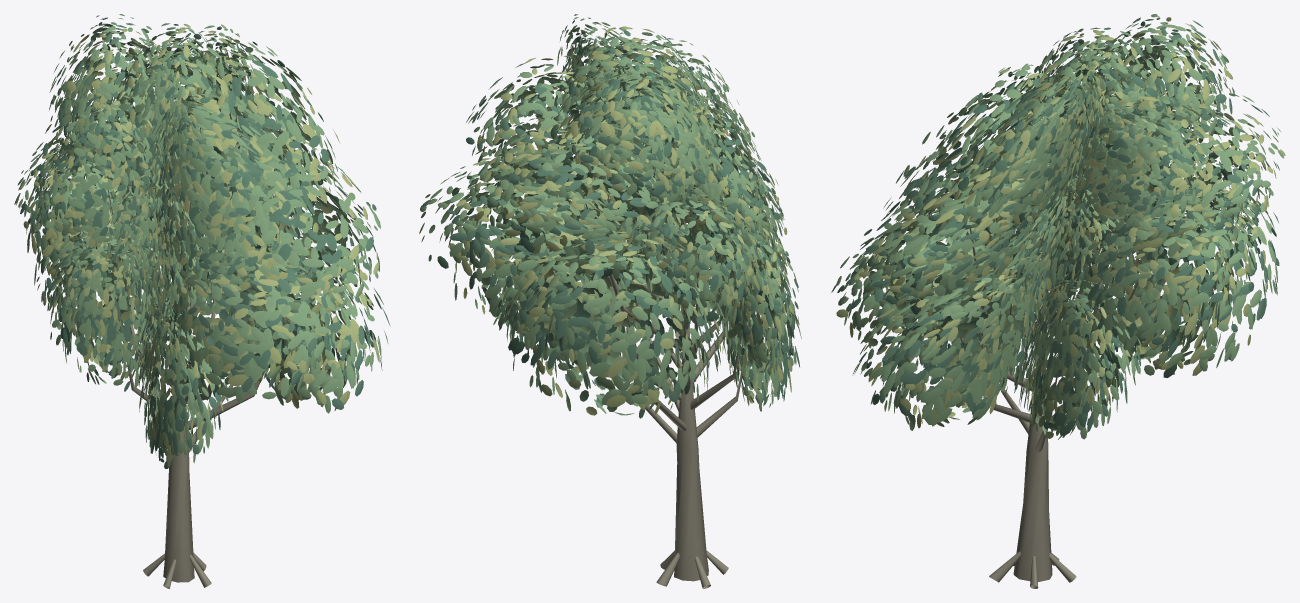
Rendered from grove_9.glb.
3 renders of one model, left to right at view 1: azimuth 30°, elevation 25°; view 2: azimuth 150°, elevation 25°; view 3: azimuth 270°, elevation 25°, orthographic. The views are drawn at different scales.
Parts seen in each view (by area): view 1: study_canopy_0_StudyLeafJade, study_canopy_0_StudyLeafDeep, study_canopy_0_StudyLeafGold, study_canopy_0_StudyBark; view 2: study_canopy_0_StudyLeafJade, study_canopy_0_StudyLeafDeep, study_canopy_0_StudyLeafGold, study_canopy_0_StudyBark; view 3: study_canopy_0_StudyLeafJade, study_canopy_0_StudyLeafDeep, study_canopy_0_StudyLeafGold, study_canopy_0_StudyBark.
Boxes of the visible parts, x1=… form: study_canopy_0_StudyLeafJade: x1=14, y1=14, x2=388, y2=463; study_canopy_0_StudyLeafDeep: x1=17, y1=15, x2=390, y2=468; study_canopy_0_StudyLeafGold: x1=16, y1=23, x2=379, y2=467; study_canopy_0_StudyBark: x1=103, y1=119, x2=288, y2=588; study_canopy_0_StudyLeafJade: x1=420, y1=14, x2=801, y2=415; study_canopy_0_StudyLeafDeep: x1=421, y1=17, x2=799, y2=418; study_canopy_0_StudyLeafGold: x1=419, y1=23, x2=800, y2=415; study_canopy_0_StudyBark: x1=552, y1=143, x2=750, y2=588; study_canopy_0_StudyLeafJade: x1=831, y1=14, x2=1284, y2=439; study_canopy_0_StudyLeafDeep: x1=837, y1=16, x2=1279, y2=437; study_canopy_0_StudyLeafGold: x1=836, y1=17, x2=1285, y2=438; study_canopy_0_StudyBark: x1=956, y1=99, x2=1170, y2=588.
Size of the model in its own units: 6.28 by 10.91 by 8.
